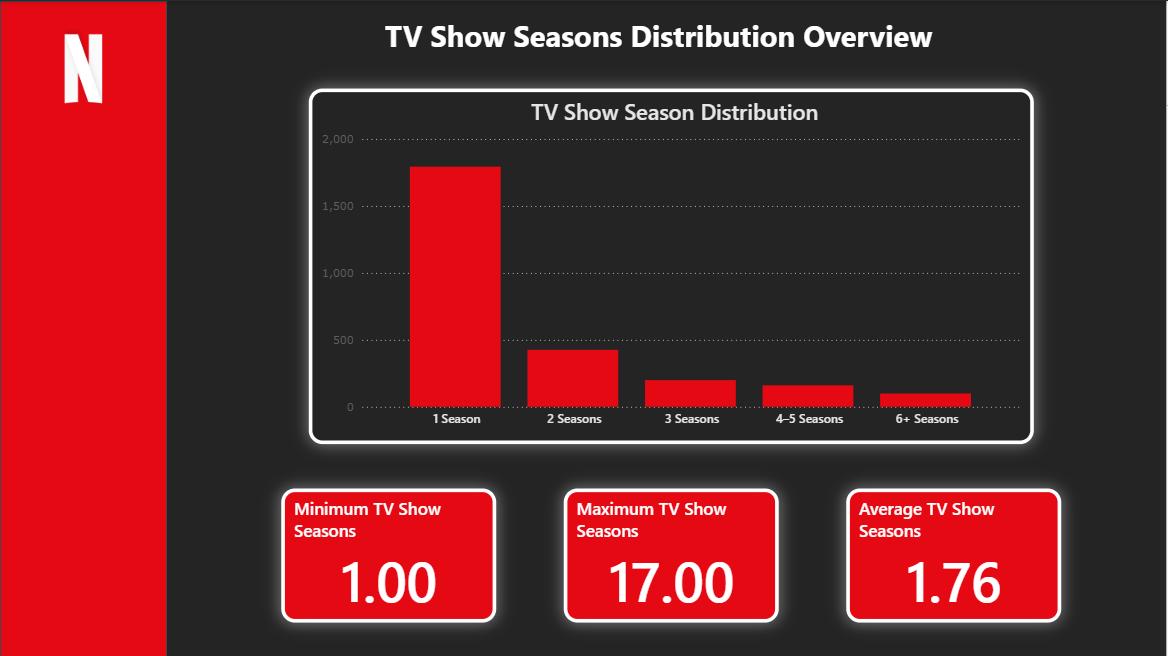

Layout of this report page (visuals, bound fields, positions):
{"tool":"powerbi","page":{"name":"TV Shows Overview","canvas":[1280,720],"ordinal":3},"visuals":[{"type":"textbox","box":[377.1,11.4,682.9,60],"z":0},{"type":"card","title":"Minimum TV Show Seasons","fields":{"Values":["netflix_titles.Minimum TV Show Seasons"]},"box":[308.6,535.7,235.7,147.1],"z":1000},{"type":"card","title":"Maximum TV Show Seasons","fields":{"Values":["netflix_titles.Maximum TV Show Seasons"]},"box":[618.6,535.7,235.7,147.1],"z":2000},{"type":"shape","box":[0,0,183.3,720],"z":3000},{"type":"card","title":"Average TV Show Seasons","fields":{"Values":["netflix_titles.Average TV Show Seasons"]},"box":[928.6,535.7,235.7,147.1],"z":4000},{"type":"clusteredColumnChart","title":"TV Show Season Distribution","fields":{"Y":["CountNonNull(netflix_titles.show_id)"],"Category":["netflix_titles.Season Range"]},"box":[338.6,95.7,795.7,390],"z":5000},{"type":"image","box":[17.1,24.3,150,94.3],"z":6000}]}

Visuals, with their boxes in screenshot pixels (x1, y1, x2, y2), scaled from the page's 1280x720 canvas onto the 1168x656 screenshot:
textbox: Rect(344, 10, 967, 65)
"Minimum TV Show Seasons" card: Rect(282, 488, 497, 622)
"Maximum TV Show Seasons" card: Rect(564, 488, 780, 622)
shape: Rect(0, 0, 167, 655)
"Average TV Show Seasons" card: Rect(847, 488, 1062, 622)
"TV Show Season Distribution" clusteredColumnChart: Rect(309, 87, 1035, 443)
image: Rect(16, 22, 152, 108)
